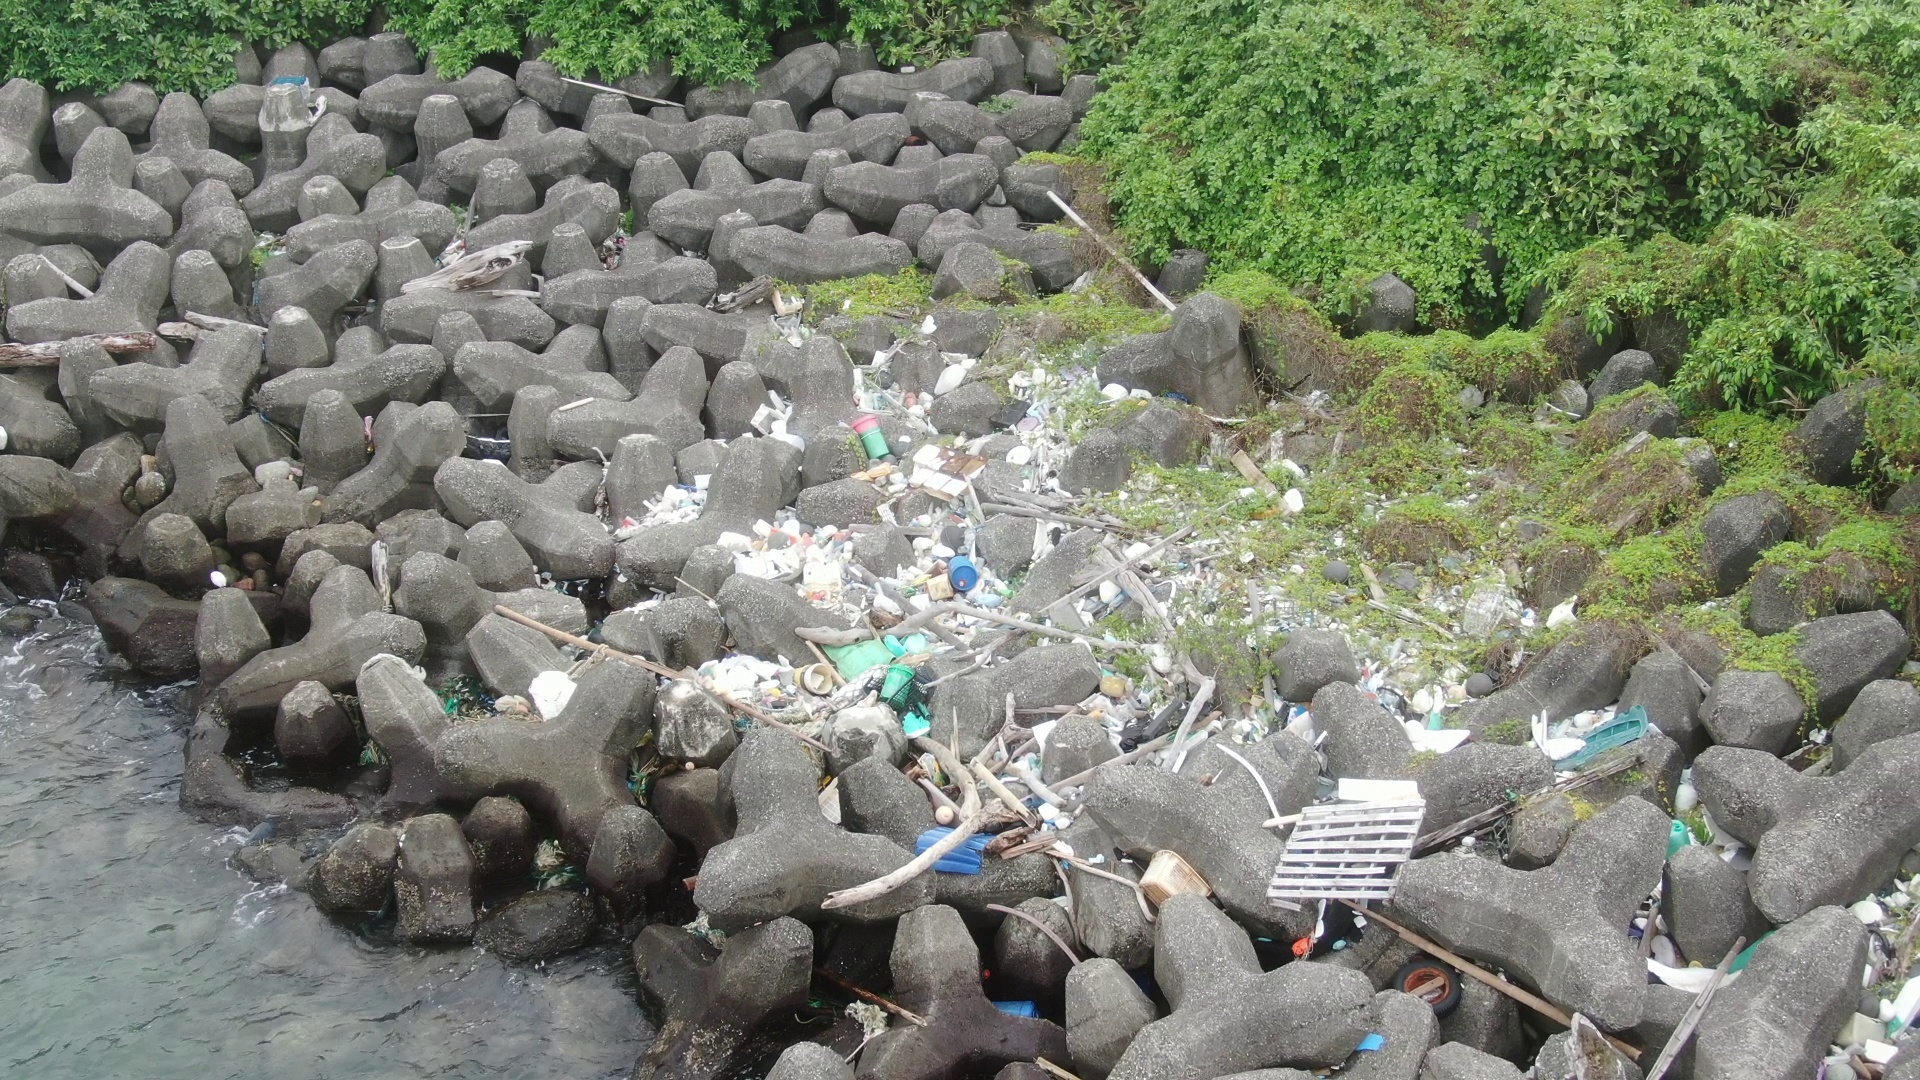garbage: (630, 315, 1286, 746), (1270, 781, 1466, 1080), (1323, 599, 1505, 765), (1527, 688, 1696, 865), (880, 752, 1095, 885), (1621, 886, 1778, 1001), (1834, 886, 1917, 1080), (1125, 840, 1232, 911), (787, 986, 911, 1043), (427, 659, 512, 720), (530, 831, 585, 909), (616, 745, 678, 814), (261, 65, 320, 105), (984, 990, 1046, 1027), (352, 738, 386, 786)
